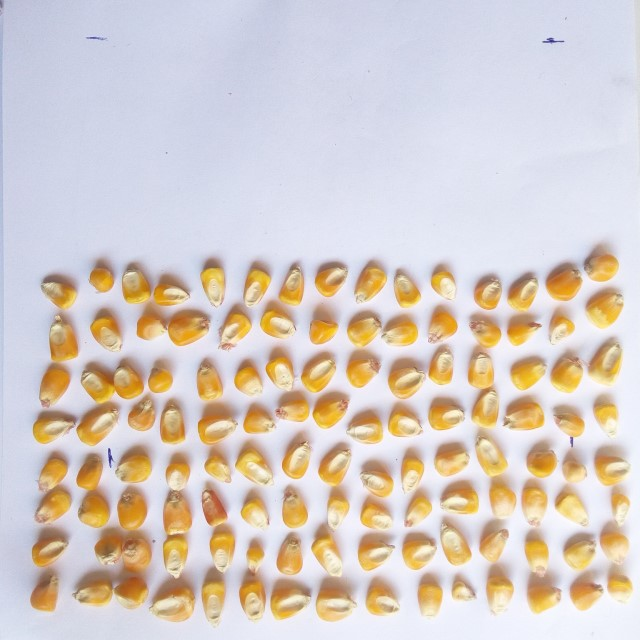maiz: (188, 404, 243, 444), (150, 578, 196, 625), (307, 531, 353, 577), (74, 402, 122, 446), (584, 335, 624, 386), (198, 567, 231, 628), (315, 580, 358, 625), (546, 347, 586, 395), (157, 486, 193, 539), (44, 312, 82, 362), (30, 406, 77, 446), (483, 568, 520, 618), (268, 580, 311, 623), (586, 287, 627, 332), (364, 576, 403, 623), (38, 270, 80, 313), (25, 524, 70, 564), (396, 530, 441, 570), (236, 569, 268, 625), (542, 260, 583, 303), (169, 307, 212, 348), (31, 363, 72, 406), (522, 576, 565, 617), (583, 247, 626, 287), (214, 304, 253, 348), (236, 491, 275, 535), (556, 530, 600, 569), (113, 487, 150, 533), (352, 536, 399, 572), (386, 360, 428, 400), (116, 446, 158, 486), (521, 436, 560, 479), (232, 448, 276, 486), (160, 534, 196, 580), (459, 348, 498, 390), (476, 523, 514, 566), (156, 397, 190, 445), (502, 398, 547, 434), (196, 259, 229, 308), (509, 351, 550, 390), (35, 450, 74, 491), (567, 576, 608, 615), (320, 441, 354, 488), (516, 481, 550, 528), (414, 570, 444, 623), (438, 479, 482, 515), (351, 258, 386, 303), (506, 269, 541, 314), (190, 360, 228, 401), (345, 408, 386, 446), (436, 523, 474, 564), (85, 311, 127, 348), (432, 443, 474, 480), (32, 490, 75, 526), (471, 436, 510, 475), (590, 397, 628, 437), (310, 387, 347, 428), (197, 483, 232, 526), (202, 525, 237, 568), (272, 533, 306, 577), (117, 534, 154, 574), (520, 535, 557, 575), (278, 438, 314, 479), (425, 396, 467, 431), (354, 500, 397, 534), (276, 262, 309, 306), (466, 274, 505, 311), (74, 575, 113, 612), (258, 303, 298, 339), (397, 491, 437, 527), (31, 569, 63, 614), (301, 350, 336, 391), (380, 312, 418, 349), (344, 352, 383, 388), (481, 480, 517, 519), (425, 304, 460, 344), (78, 358, 113, 398), (263, 350, 298, 390), (279, 486, 311, 529), (312, 260, 349, 297), (387, 403, 424, 440), (343, 308, 379, 346), (357, 463, 396, 498), (390, 269, 424, 309), (79, 491, 113, 531), (449, 573, 482, 614), (110, 361, 146, 398), (552, 405, 589, 441), (599, 525, 635, 562), (271, 391, 310, 425), (396, 452, 430, 491), (120, 263, 151, 305), (595, 449, 631, 485), (316, 488, 351, 525), (426, 264, 459, 303), (506, 314, 542, 349), (238, 400, 275, 434), (155, 274, 193, 307), (303, 314, 341, 347), (553, 488, 586, 526), (86, 258, 118, 297), (239, 263, 270, 303), (469, 388, 501, 426), (426, 344, 455, 385), (137, 307, 169, 344), (75, 453, 106, 491), (542, 309, 575, 344), (232, 359, 264, 395), (116, 577, 146, 614), (144, 360, 176, 394), (127, 395, 159, 429), (608, 572, 639, 607), (164, 457, 193, 494), (201, 449, 233, 482), (605, 490, 636, 524), (92, 530, 121, 565), (467, 318, 500, 348), (559, 453, 589, 486), (240, 539, 266, 569)
